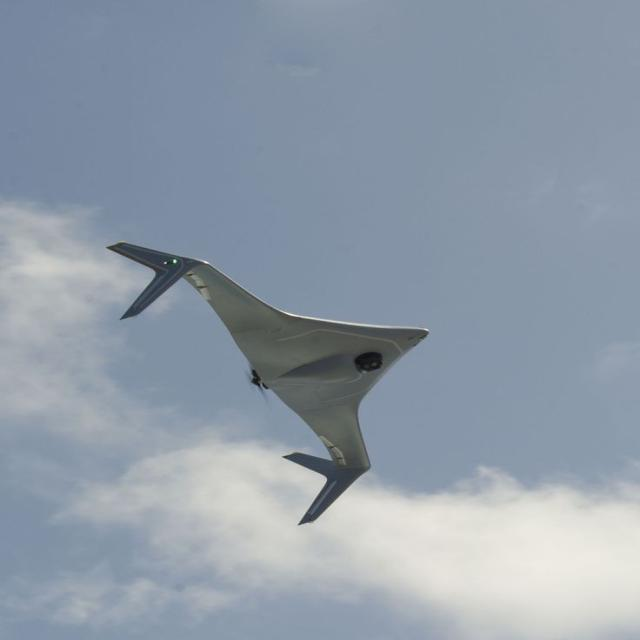iha: (110, 238, 432, 526)
